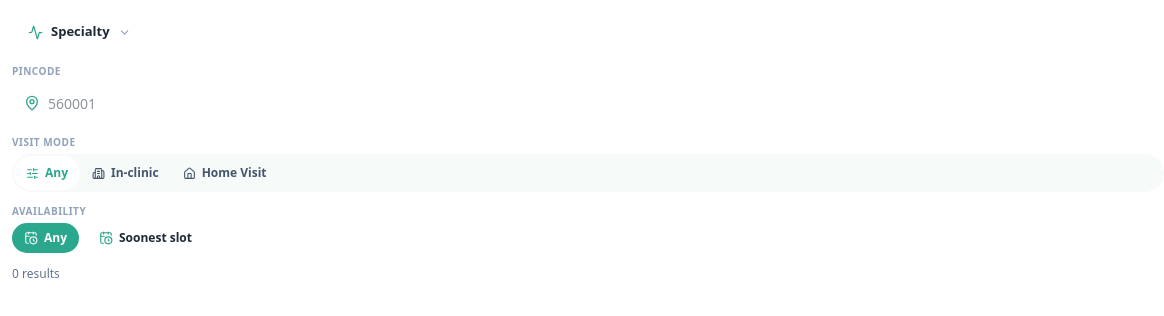
Scenario: PatientSearchFiltersRail › does not push an invalid partial pincode on blur
The image size is (1164, 316).
In the field labelled "Pincode": (600, 103) [48,92,1152,114], type "56000"
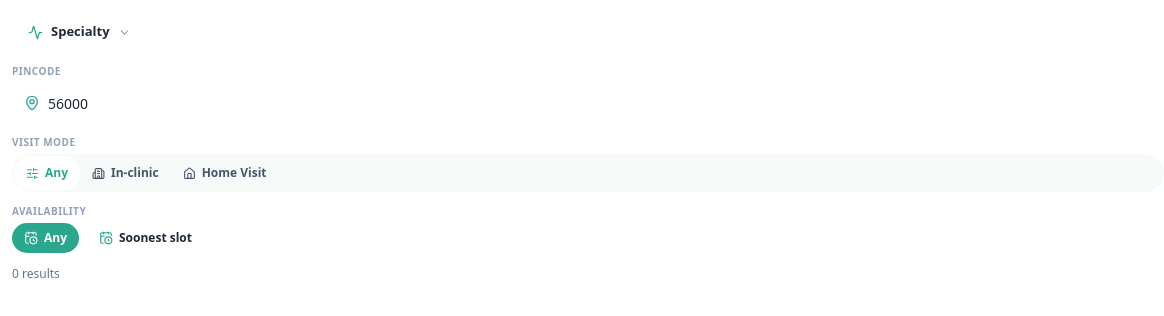
Leave the field labelled "Pincode", box [48,92,1152,114]
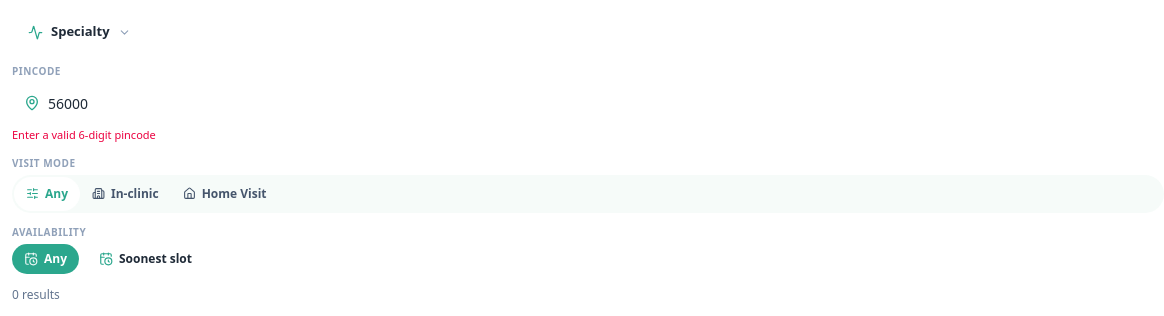
Expected: the text "Enter a valid 6-digit pincode" is shown, [12,127,156,142]
